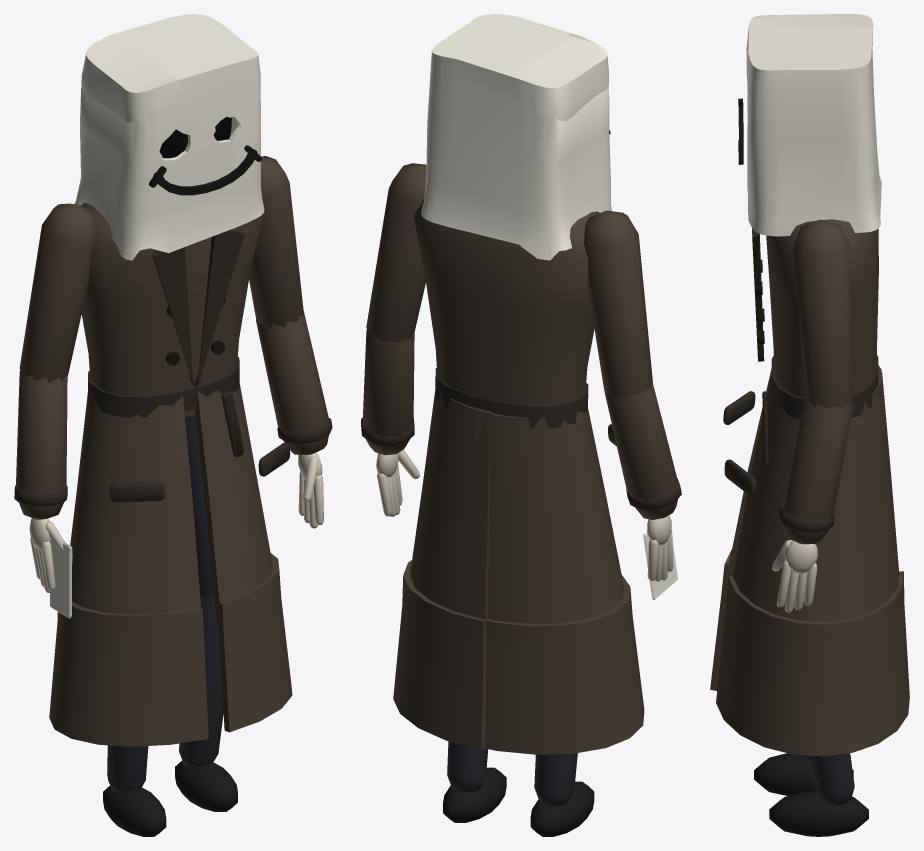
The model's file is Creature_Paperface.fbx.
3 renders of one model, left to right at view 1: azimuth 30°, elevation 25°; view 2: azimuth 150°, elevation 25°; view 3: azimuth 270°, elevation 25°, orthographic.
Parts seen in each view (by area): view 1: Head_Bag, CoatR, CoatLowerR, Torso, CoatL, UpperArmR, CoatLowerL, UpperArmL, ForearmR, ForearmL, BagCorner, Torso_Lapels (+15 smaller); view 2: Head_Bag, Torso, CoatR, CoatLowerR, CoatL, CoatLowerL, UpperArmR, UpperArmL, ForearmR, BagCorner, ForearmL, Hips (+8 smaller); view 3: Head_Bag, CoatLowerL, CoatL, UpperArmL, Torso, ForearmL, FootL, HandL, FootR, ShinL, BagCorner, Hips (+6 smaller).
Part boxes in pixels (x1,y1,x2,y2): Head_Bag: (74, 14, 264, 260); CoatR: (70, 392, 200, 614); CoatLowerR: (49, 601, 208, 746); Torso: (81, 203, 264, 417); CoatL: (194, 384, 272, 624); UpperArmR: (19, 203, 95, 382); CoatLowerL: (217, 553, 292, 732); UpperArmL: (249, 156, 303, 328); ForearmR: (16, 370, 67, 519); ForearmL: (256, 311, 329, 454); BagCorner: (81, 32, 181, 126); Torso_Lapels: (152, 229, 244, 388); Head_Bag: (421, 14, 611, 260); Torso: (413, 199, 599, 406); CoatR: (474, 409, 623, 623); CoatLowerR: (485, 575, 644, 754); CoatL: (410, 391, 492, 619); CoatLowerL: (393, 560, 487, 749); UpperArmR: (584, 210, 652, 398); UpperArmL: (366, 163, 426, 342); ForearmR: (604, 382, 678, 519); BagCorner: (507, 32, 608, 123); ForearmL: (362, 329, 414, 455); Hips: (435, 368, 588, 428); Head_Bag: (746, 27, 881, 236); CoatLowerL: (716, 571, 909, 756); CoatL: (733, 372, 898, 622); UpperArmL: (793, 219, 852, 408); Torso: (766, 219, 878, 397); ForearmL: (782, 397, 853, 544); FootL: (769, 791, 868, 836); HandL: (772, 540, 818, 612); FootR: (754, 753, 853, 795); ShinL: (809, 753, 854, 805); BagCorner: (747, 14, 873, 36); Hips: (762, 355, 878, 467).
Size of the model in its own units: 235 by 555 by 129.
